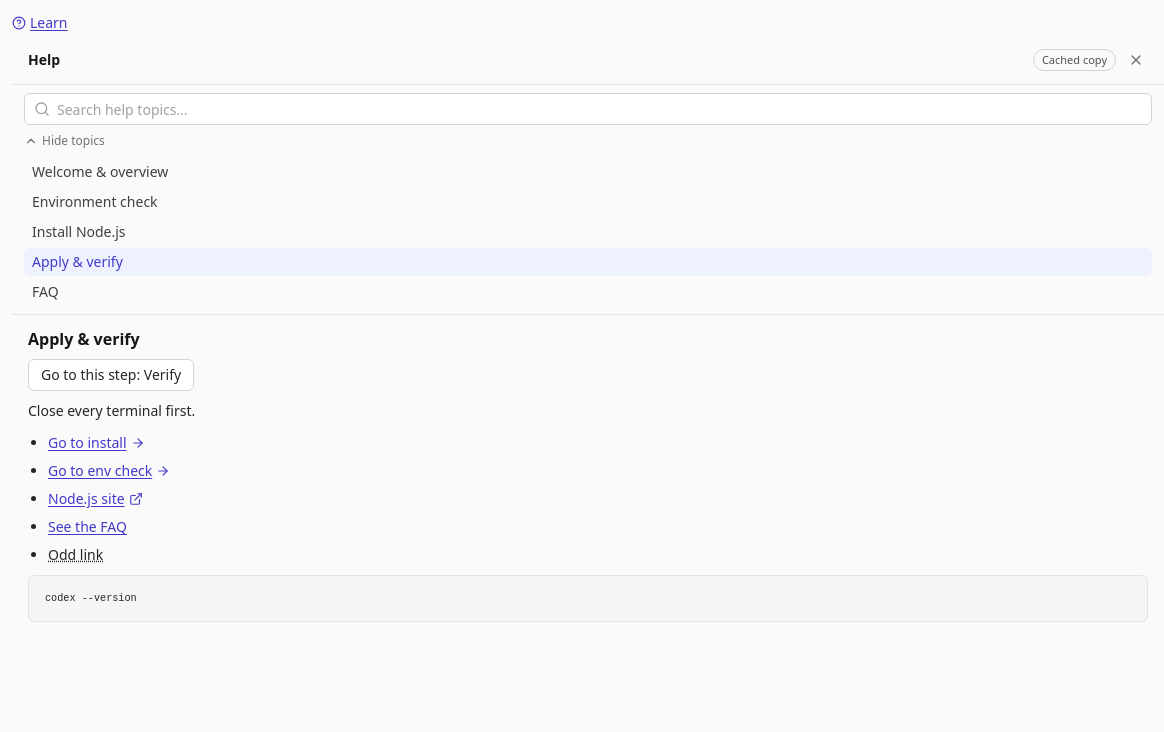
Scenario: HelpPanel › selects a newly requested section while already open
The width and height of the screenshot is (1164, 732).
Check: the heading "Apply & verify" is shown, box [28,327,140,351]
What coordinates should you click on to do the following:
click the button "Learn"
I would click on:
 (40, 23)
Its box is [12,13,68,33].
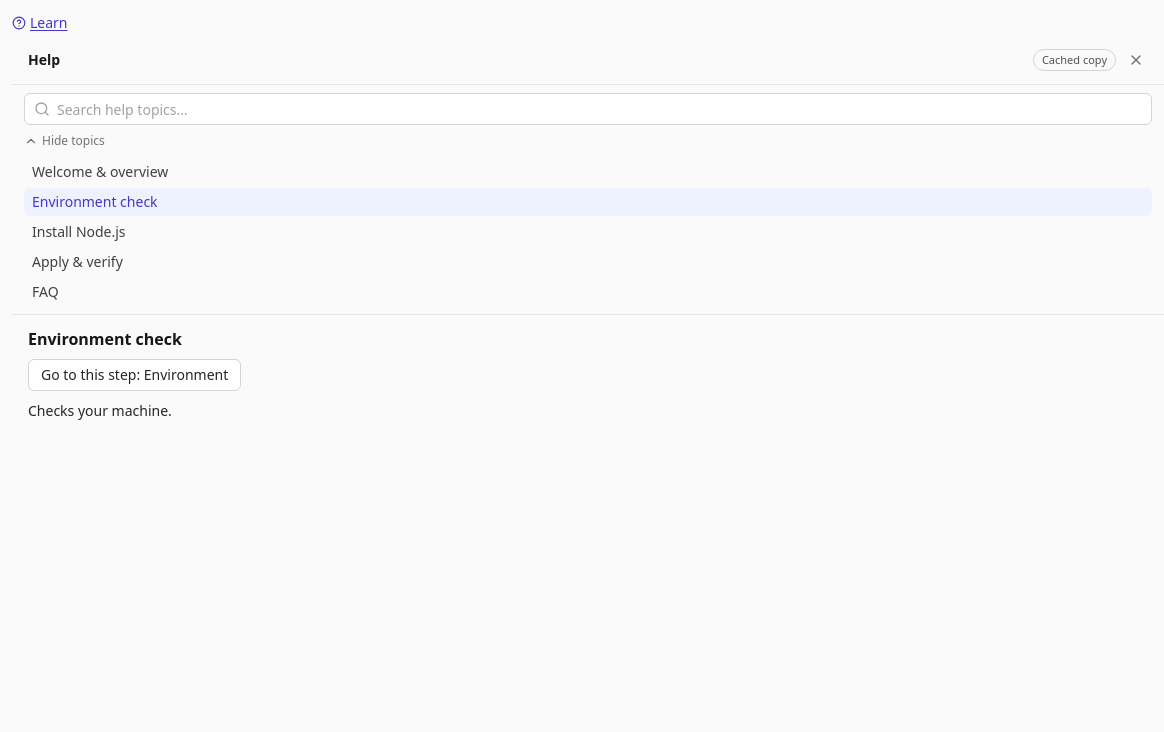
Check: the heading "Environment check" is shown, box [28,327,182,351]
